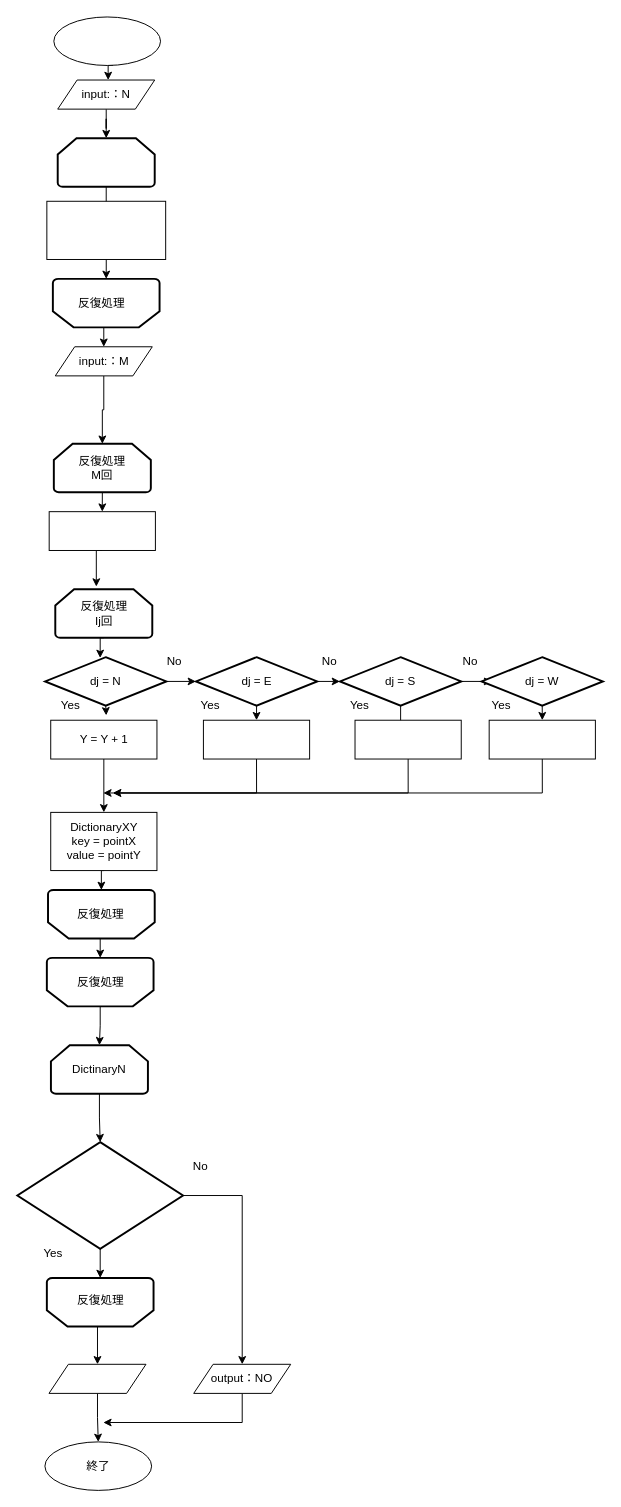
This 621x1507 diagram has some shape labels left out. The centre of each missing label's shape, as x and y in pixels:
DictionaryN key = xi value = yiとする: (106,229)
DictionaryN(key, value) =DictionaryXY(key, value): (100,1195)
output：YES: (97,1378)
pointX = 10; pointY = 10;: (101,530)
X = X + 1: (256,739)
X = X - 1: (541,739)
Y = Y - 1: (407,739)
反復処理 N回: (105,162)
開始: (107,40)
